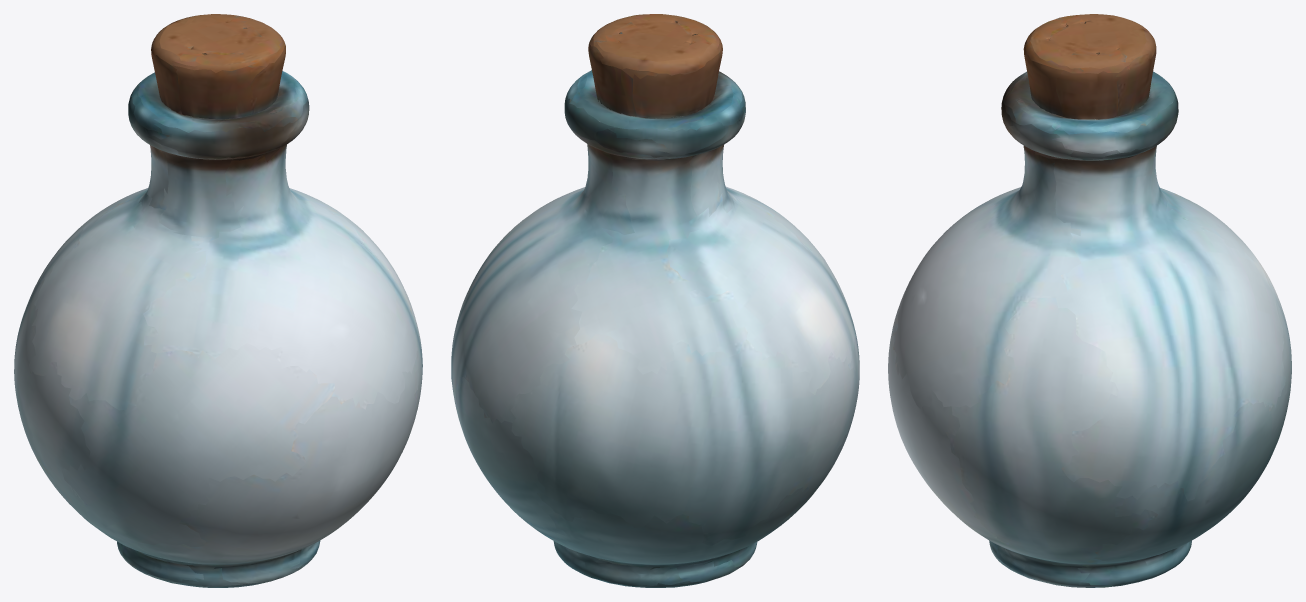
File: sound_bottle.glb
The picture shows the model from 3 angles, left to right: view 1: azimuth 30°, elevation 25°; view 2: azimuth 150°, elevation 25°; view 3: azimuth 270°, elevation 25°; orthographic projection.
Parts seen in each view (by area): view 1: world; view 2: world; view 3: world.
Boxes of the visible parts, x1,y1,x2,y2 form: world: (14, 14, 422, 587); world: (451, 14, 859, 587); world: (888, 14, 1291, 587).
Bounding box in the file's own units: 0.0864 × 0.12 × 0.0853.
1 material, 1 textured.
